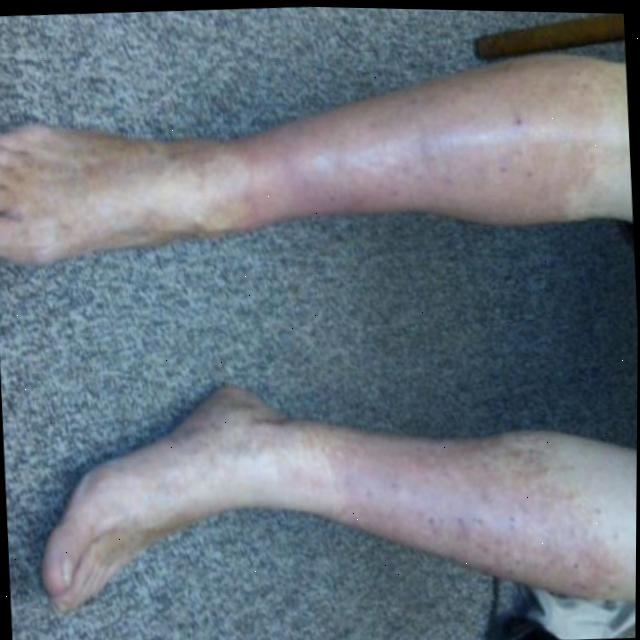Eczema: (298, 426, 611, 600), (227, 81, 557, 215)
